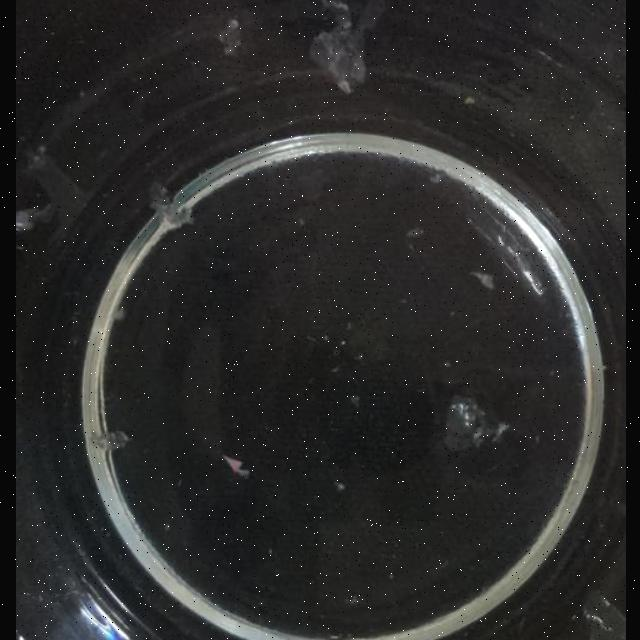Fibre: (307, 0, 385, 89), (438, 392, 508, 453), (574, 590, 626, 640), (140, 184, 188, 230), (15, 202, 51, 232), (216, 18, 242, 56), (89, 427, 131, 449), (468, 272, 494, 290), (110, 304, 124, 322), (406, 227, 424, 239), (428, 173, 440, 184), (348, 595, 358, 605)
microbeads: (304, 335, 318, 345), (348, 395, 359, 407), (462, 96, 474, 105), (334, 482, 344, 492)
